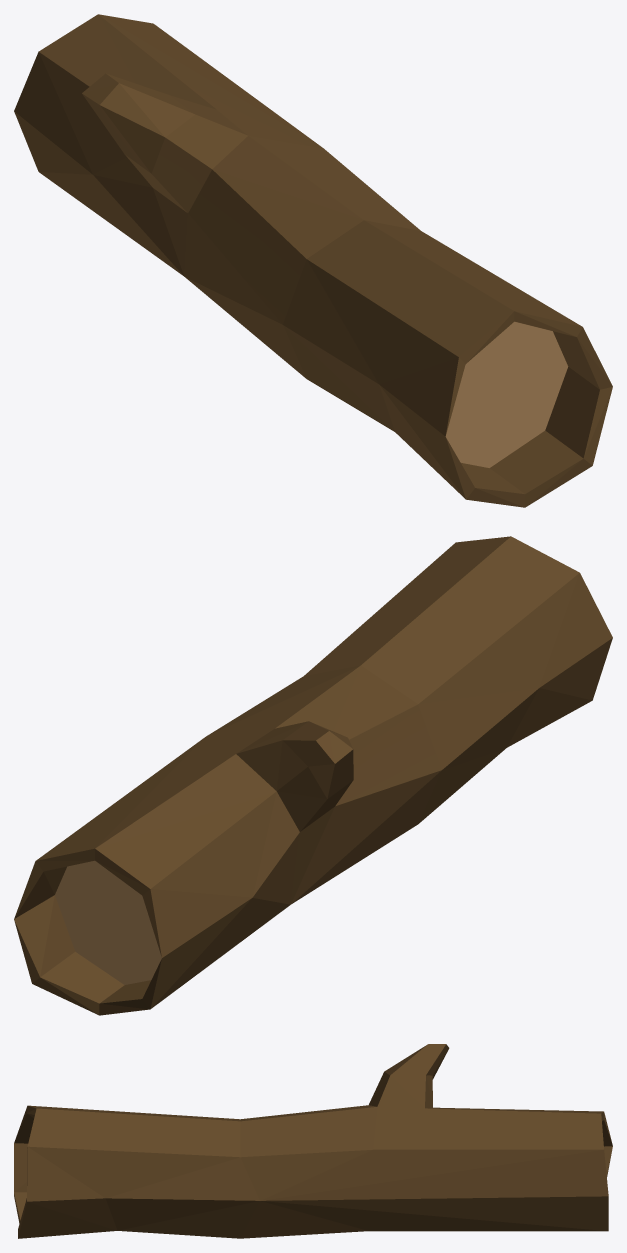
Rendered from Stump_06.fbx.
3 renders of one model, top to bottom at view 1: azimuth 30°, elevation 25°; view 2: azimuth 150°, elevation 25°; view 3: azimuth 270°, elevation 25°, orthographic. The views are drawn at different scales.
Visible parts, largest first — view 1: Stump_06; view 2: Stump_06; view 3: Stump_06.
Boxes of the visible parts, x1=… form: Stump_06: x1=14, y1=14, x2=612, y2=507; Stump_06: x1=14, y1=536, x2=612, y2=1015; Stump_06: x1=14, y1=1044, x2=612, y2=1238.
Size of the model in its own units: 61.41 by 61.77 by 213.
